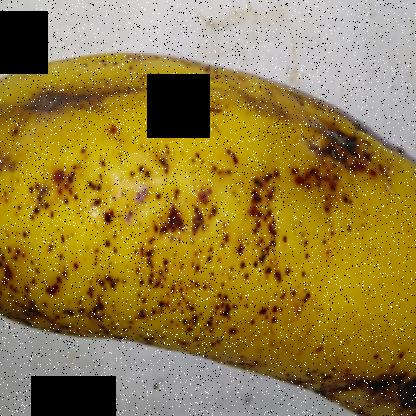rotten: (1, 33, 205, 127), (301, 84, 384, 190), (323, 347, 416, 415)
